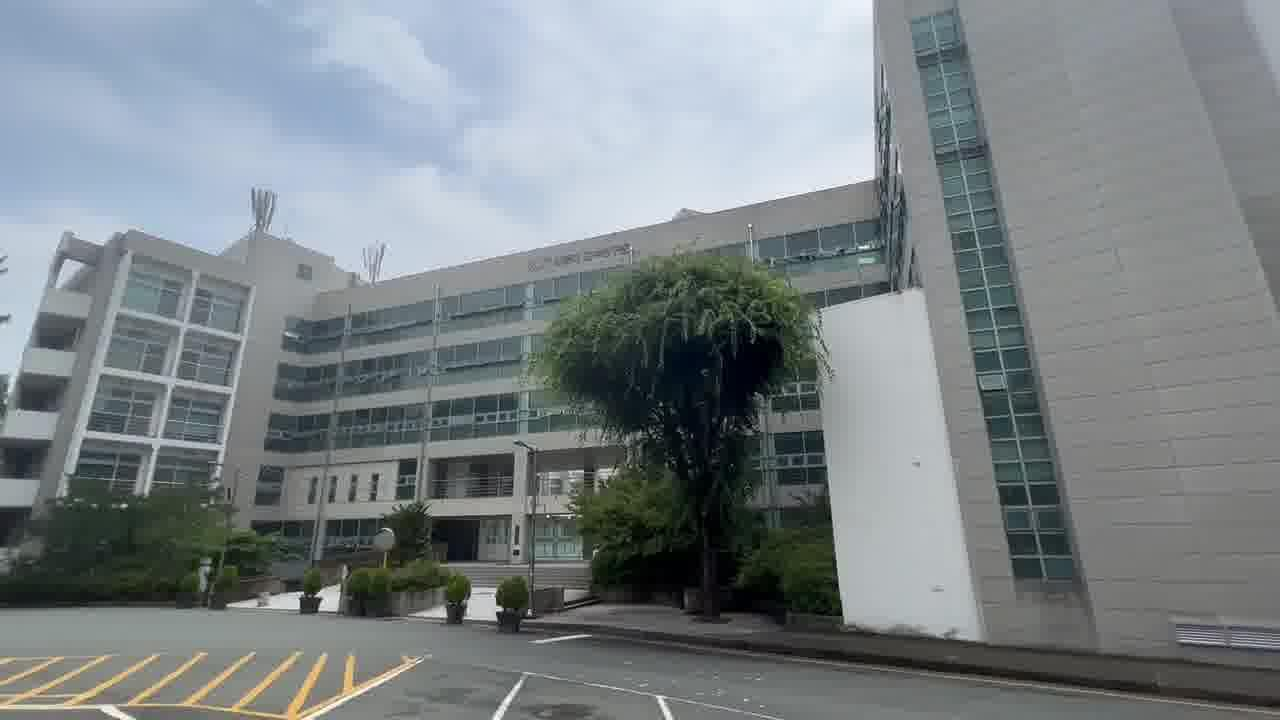building: (19, 191, 548, 498)
